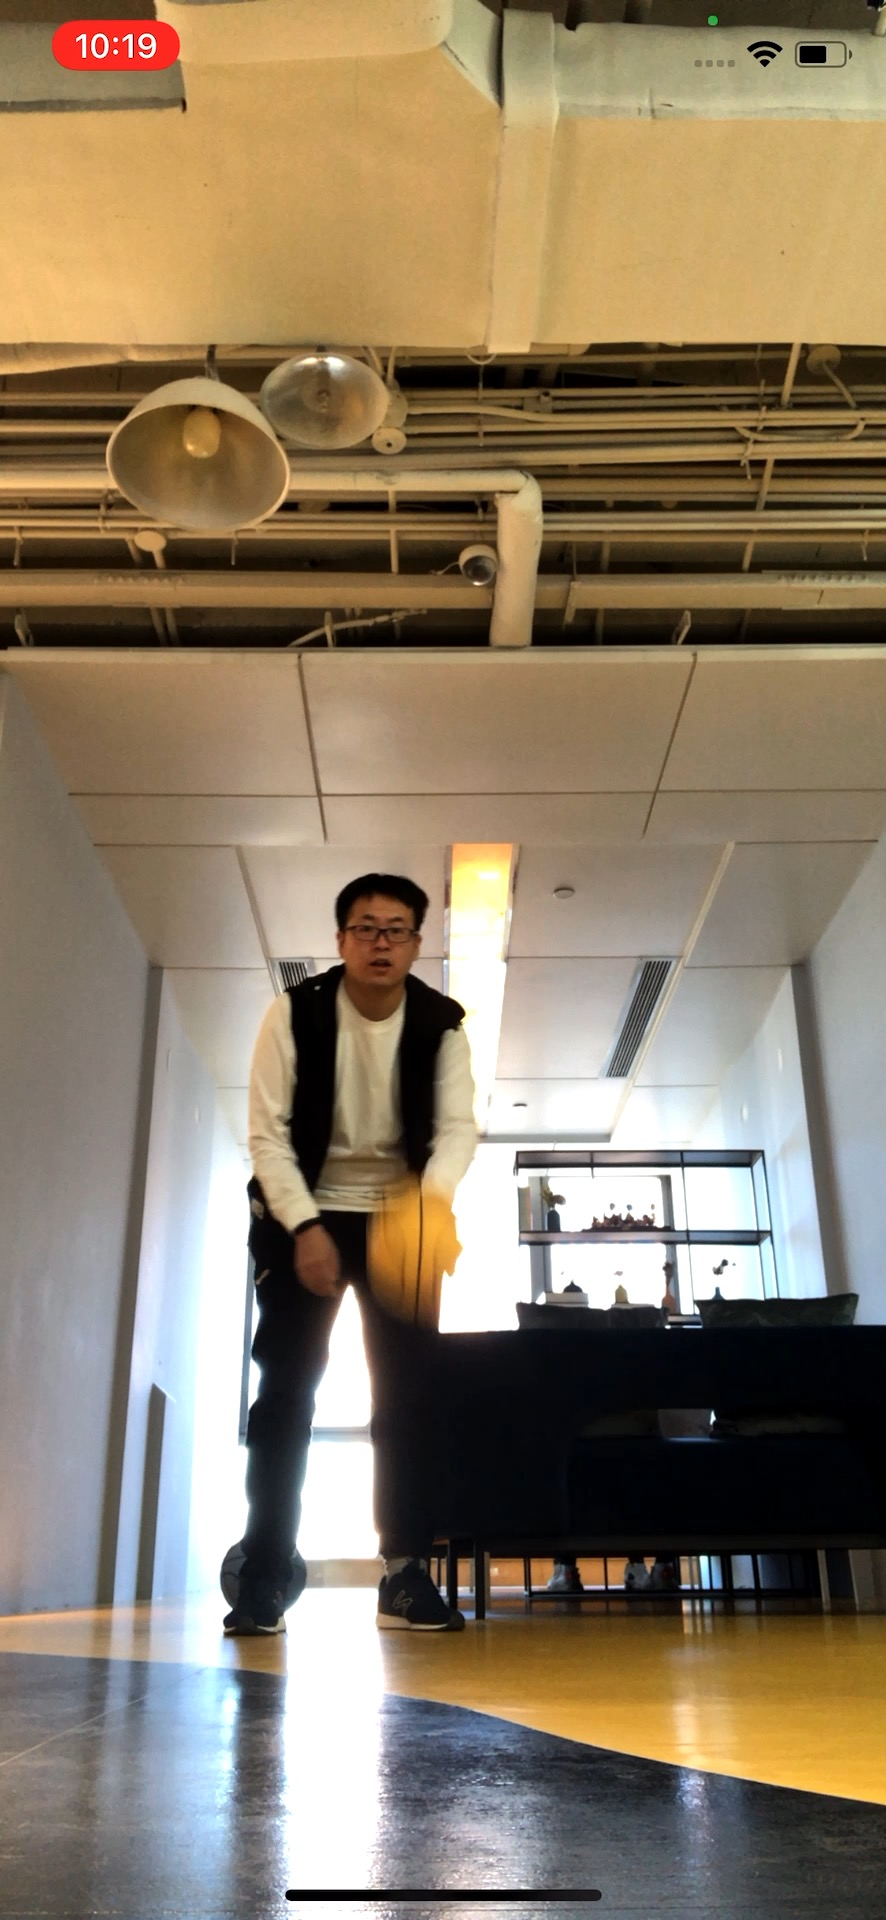ball: (359, 1191, 467, 1325)
